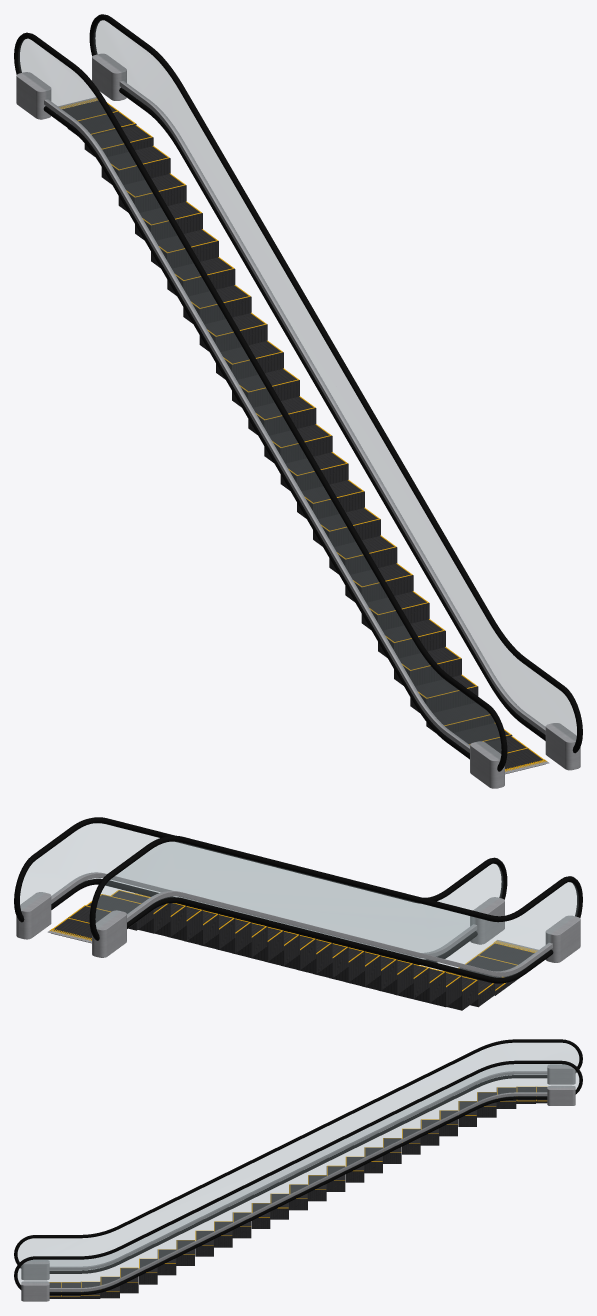
The model's file is gteki_ik_escalator_w709_rise4388_a2856.glb.
3 views of the same model, one above another, from view 1: azimuth 30°, elevation 25°; view 2: azimuth 150°, elevation 25°; view 3: azimuth 270°, elevation 25° (orthographic). The views are drawn at different scales.
Parts seen in each view (by area): view 1: VIS_balustrades, VIS_steps, VIS_moving_handrails, VIS_balustrade_shoes, VIS_newel_bases, VIS_demarcation; view 2: VIS_balustrades, VIS_steps, VIS_moving_handrails, VIS_newel_bases, VIS_balustrade_shoes, VIS_demarcation, VIS_comb_plates; view 3: VIS_balustrades, VIS_moving_handrails, VIS_steps, VIS_balustrade_shoes, VIS_newel_bases, VIS_demarcation.
Boxes of the visible parts, x1=… form: VIS_balustrades: x1=18, y1=20, x2=576, y2=759; VIS_steps: x1=62, y1=100, x2=545, y2=774; VIS_moving_handrails: x1=14, y1=14, x2=582, y2=771; VIS_balustrade_shoes: x1=44, y1=81, x2=545, y2=752; VIS_newel_bases: x1=16, y1=53, x2=580, y2=788; VIS_demarcation: x1=78, y1=102, x2=544, y2=770; VIS_balustrades: x1=20, y1=823, x2=578, y2=977; VIS_steps: x1=51, y1=891, x2=533, y2=1010; VIS_moving_handrails: x1=14, y1=817, x2=582, y2=983; VIS_newel_bases: x1=16, y1=892, x2=580, y2=962; VIS_balustrade_shoes: x1=51, y1=872, x2=552, y2=976; VIS_demarcation: x1=52, y1=890, x2=534, y2=994; VIS_comb_plates: x1=47, y1=928, x2=538, y2=952; VIS_balustrades: x1=17, y1=1043, x2=579, y2=1291; VIS_moving_handrails: x1=14, y1=1039, x2=582, y2=1295; VIS_steps: x1=49, y1=1087, x2=547, y2=1298; VIS_balustrade_shoes: x1=49, y1=1071, x2=547, y2=1291; VIS_newel_bases: x1=21, y1=1064, x2=575, y2=1301; VIS_demarcation: x1=49, y1=1086, x2=546, y2=1296.
Bounding box in the file's own units: 1.23 × 5.42 × 11.57.
5 materials, 2 textured.
